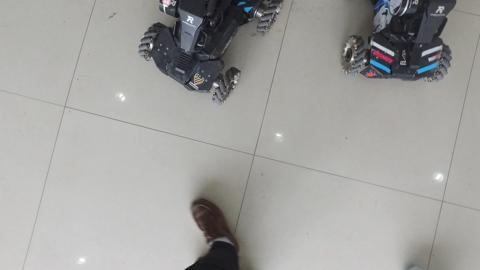chariot: (131, 1, 291, 113), (340, 1, 465, 88)
